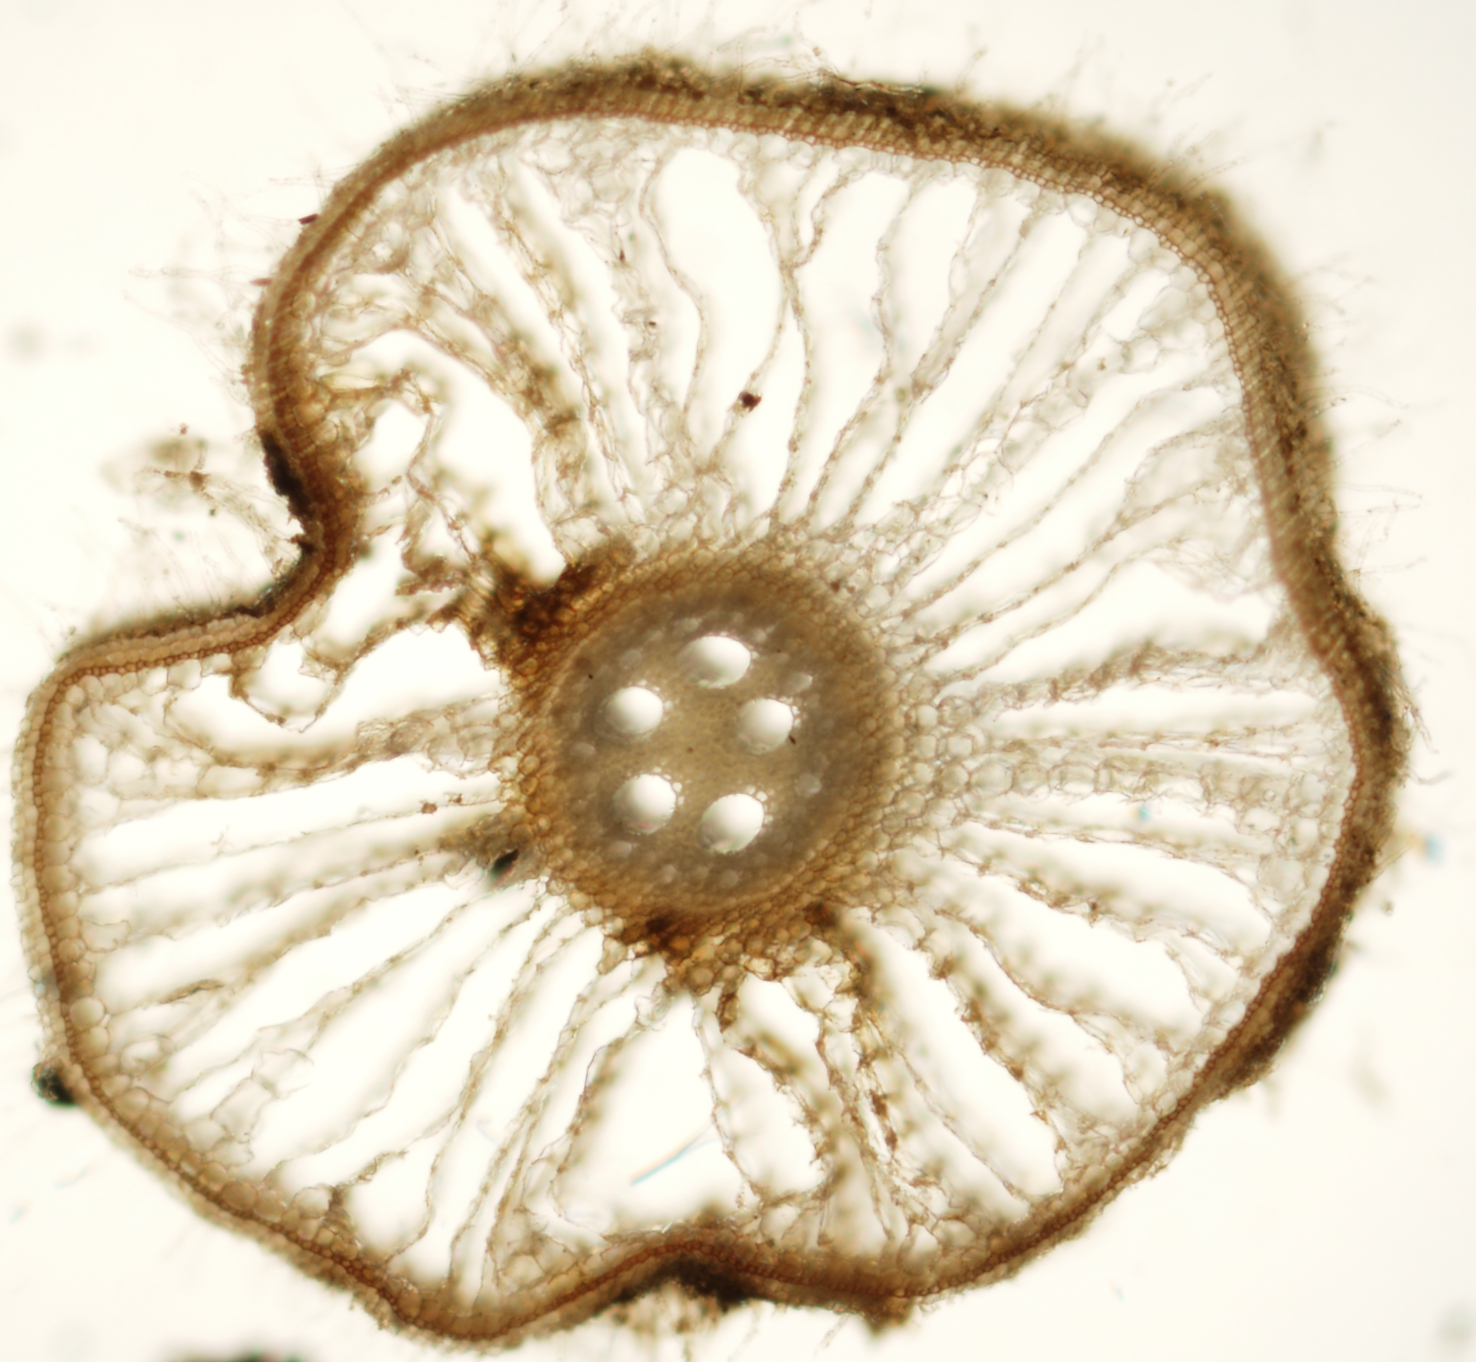lm: (613, 773, 676, 836), (699, 794, 764, 854), (678, 635, 751, 688), (734, 697, 793, 755), (602, 687, 663, 734)
